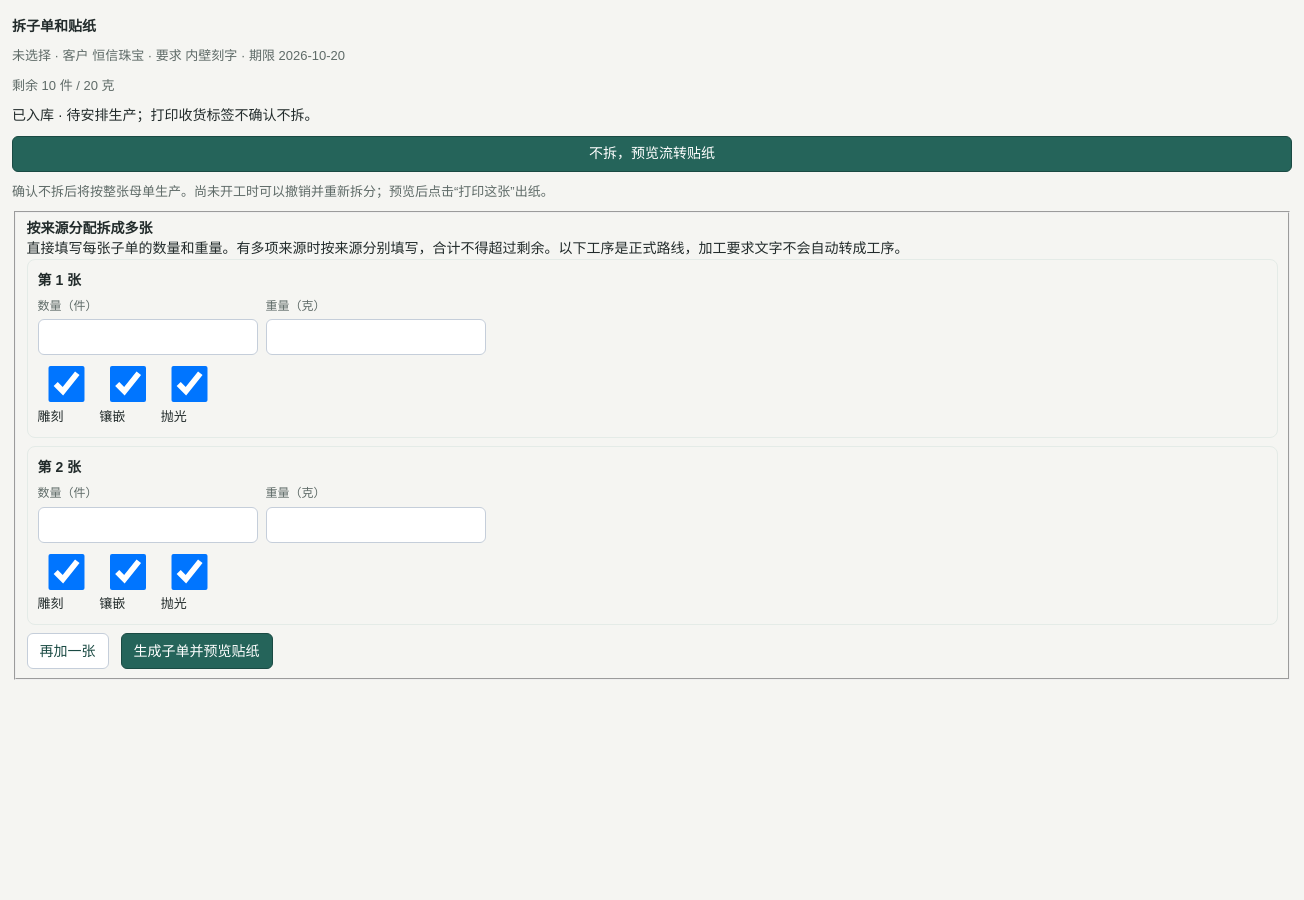
Test: MotherSplitPanel › 数量超过剩余时不提交拆分
Type "6" into the field named "第1张数量".
click(148, 337); type("6")  # box x1=38 y1=319 x2=258 y2=355
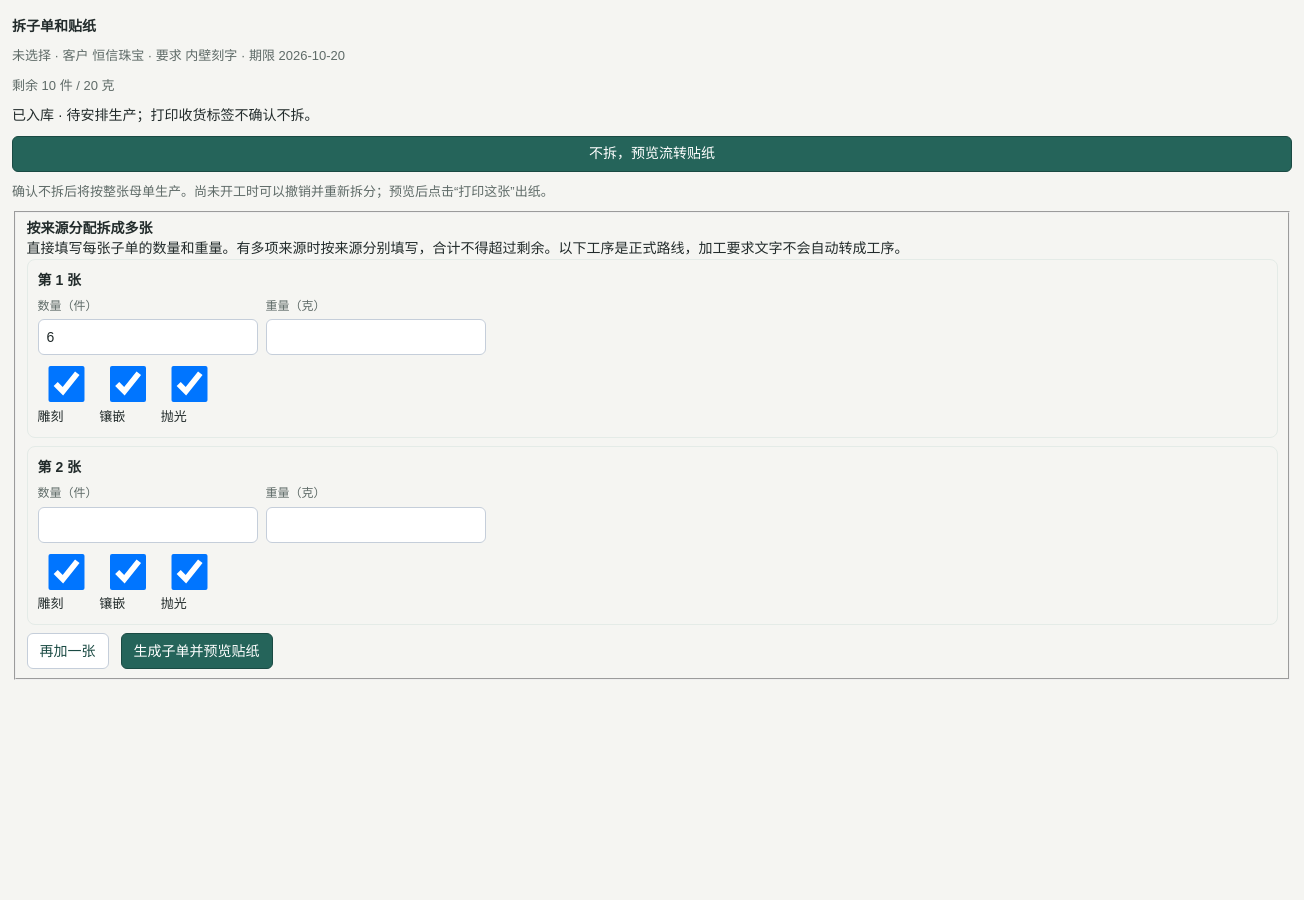
Type "8" into the field named "第1张重量".
click(376, 337); type("8")  # box x1=266 y1=319 x2=486 y2=355
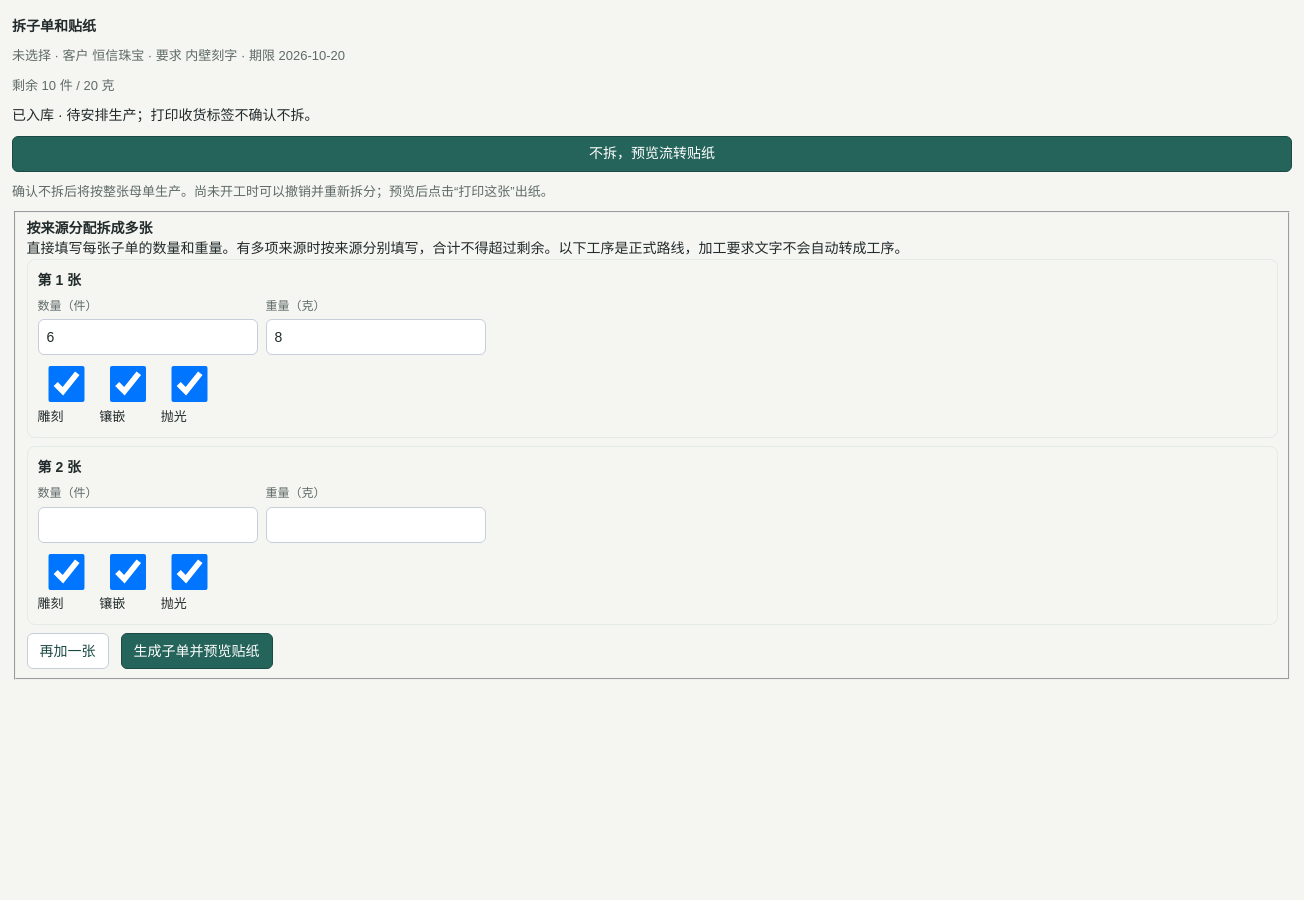
Type "6" into the field named "第2张数量".
click(148, 525); type("6")  # box x1=38 y1=507 x2=258 y2=543
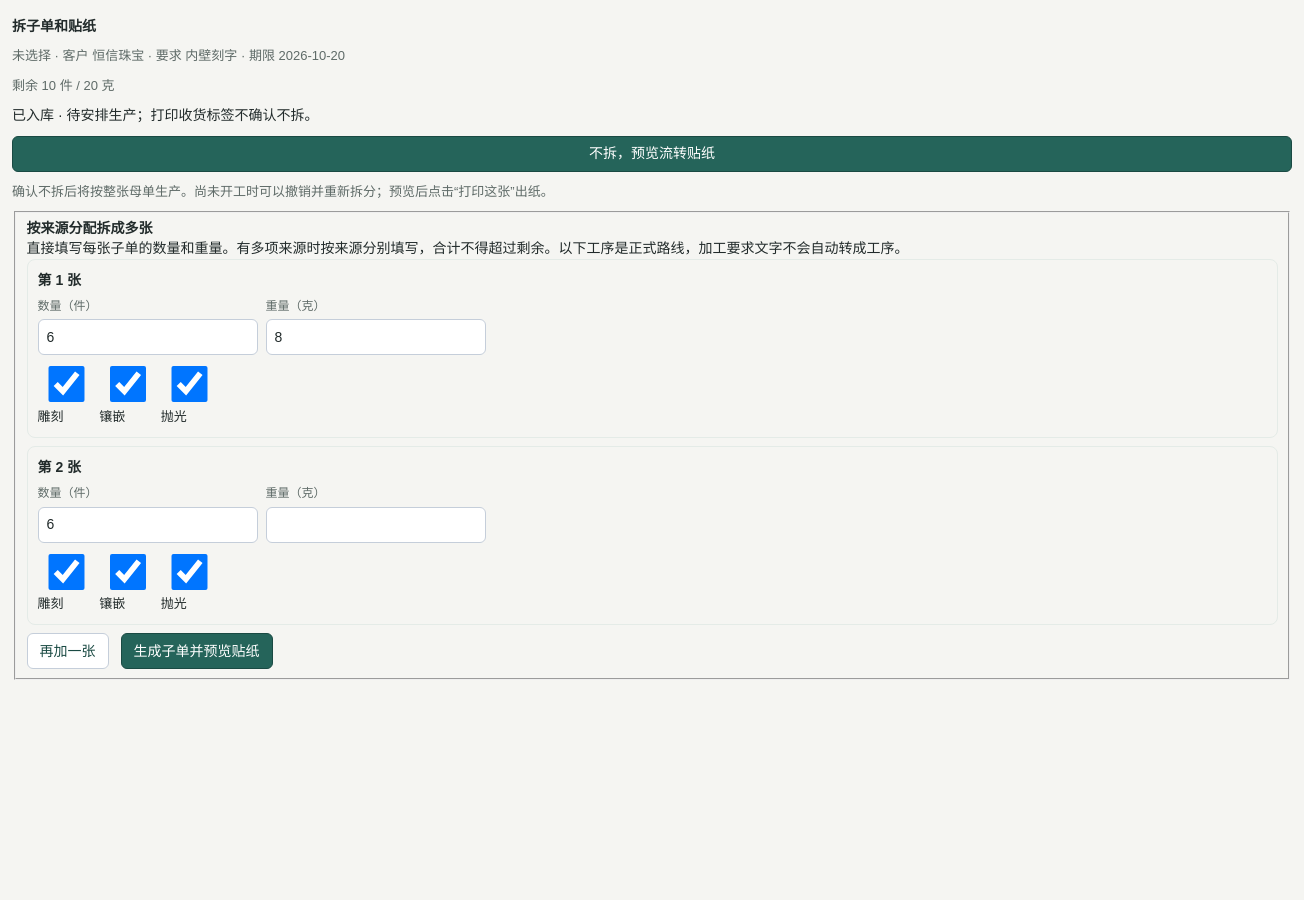
Type "8" into the field named "第2张重量".
click(376, 525); type("8")  # box x1=266 y1=507 x2=486 y2=543
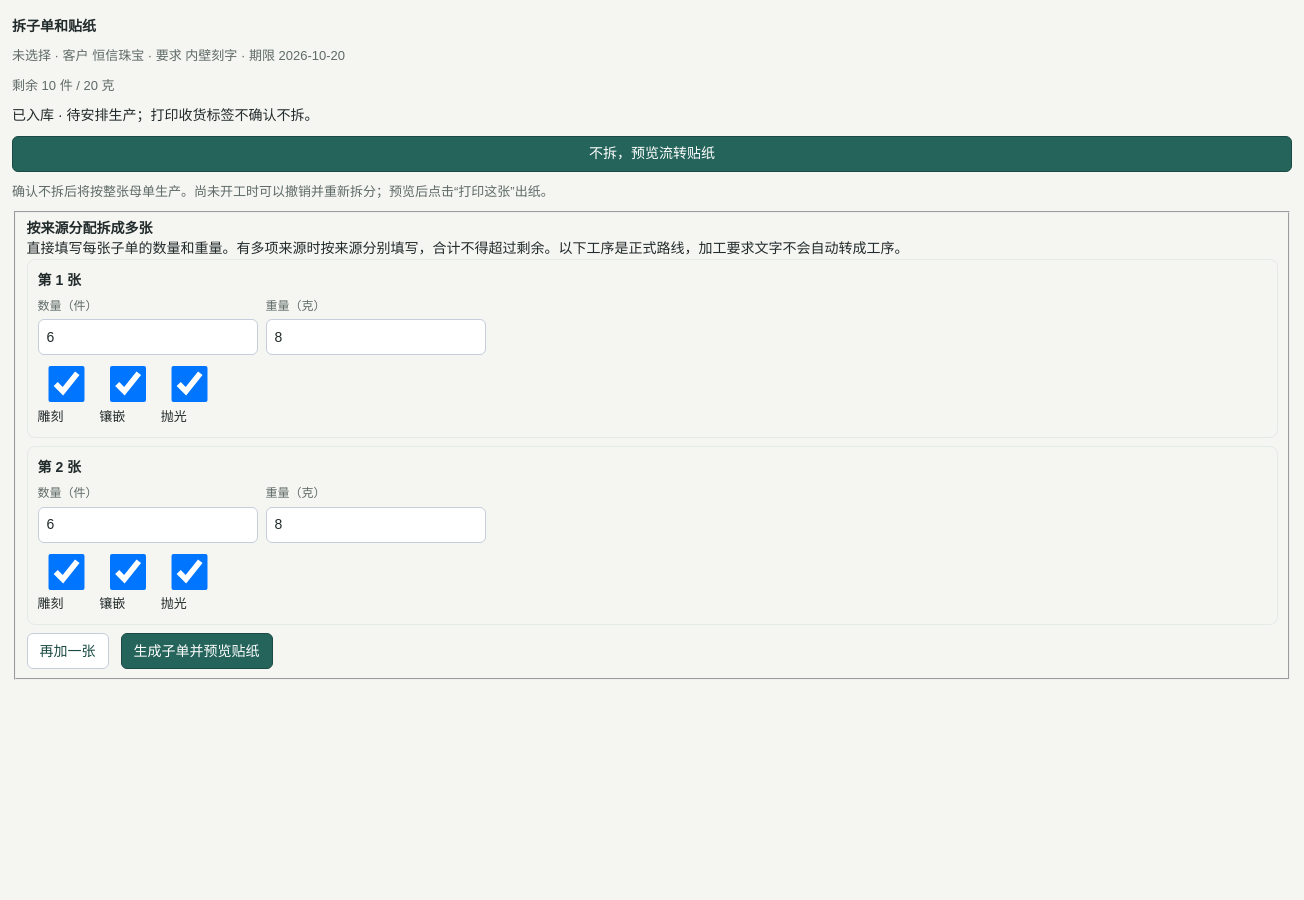
Click the button with aria-label "生成子单并预览贴纸".
click(196, 651)  # box x1=120 y1=633 x2=272 y2=669
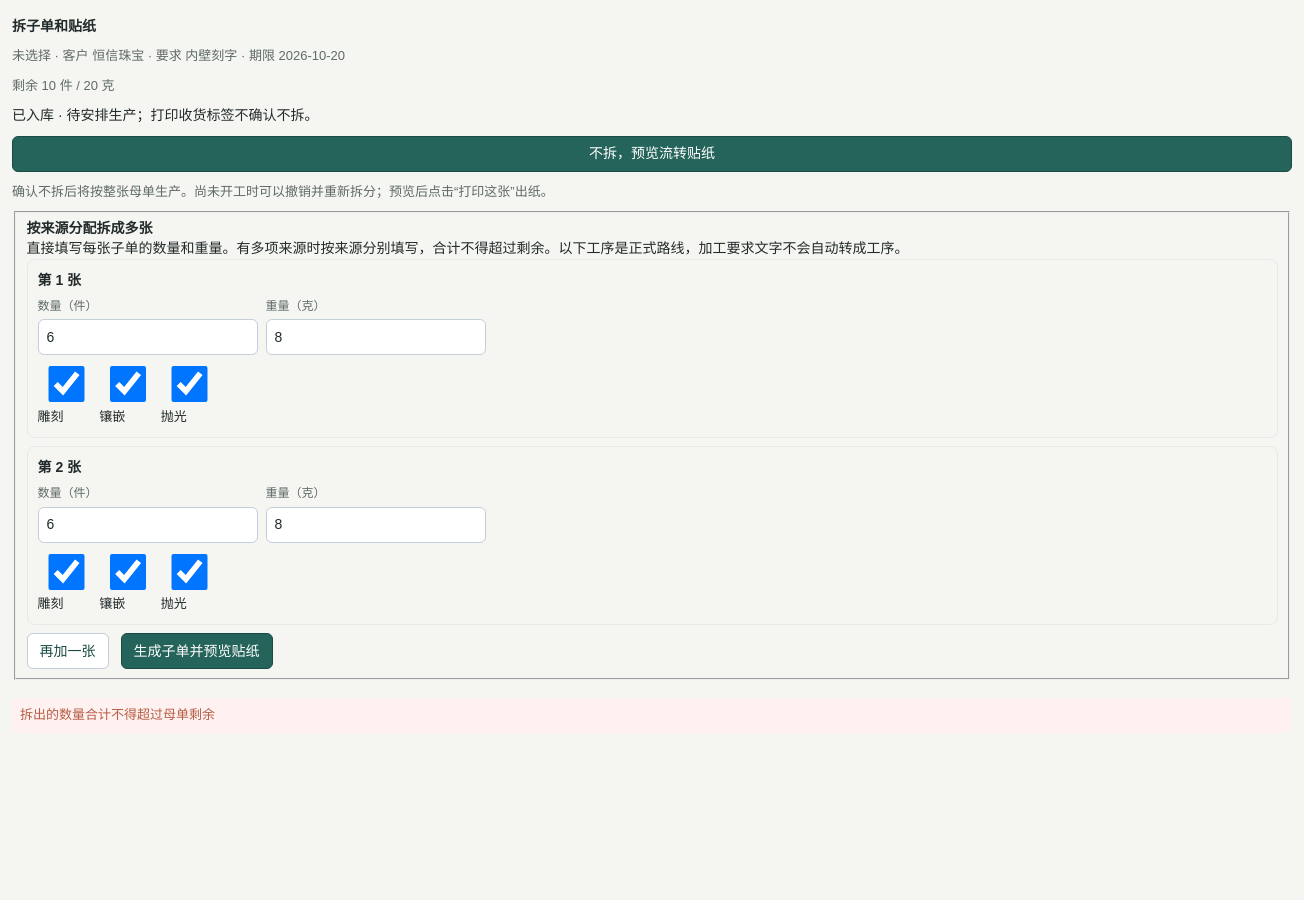
expect the text "数量合计不得超过母单剩余" is shown: met, box x1=20 y1=707 x2=215 y2=722
